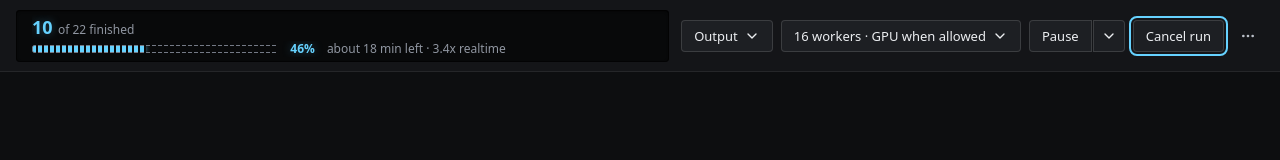
Test: RunHeader confirmations › asks inline before Cancel run, with focus on Keep running and Escape keeping the batch running
The width and height of the screenshot is (1280, 160).
Click the button "Cancel run" at x=1178, y=36, box [1133, 20, 1224, 52]
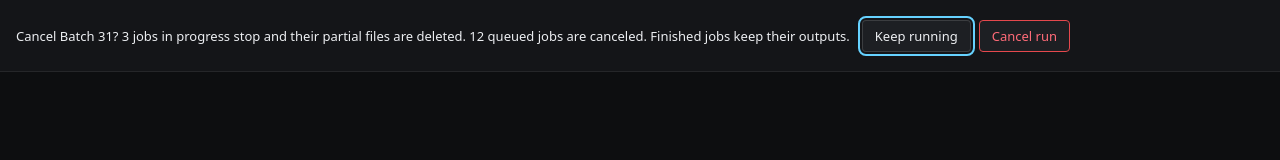
Check: the button "Pause" is gone
Press Escape in the button "Keep running", box [862, 20, 971, 52]
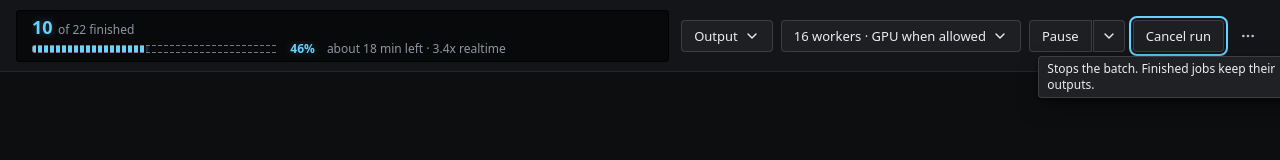
Check: the text "Cancel Batch 31? 3 jobs in progress stop and their partial files are deleted. 12 queued jobs are canceled. Finished jobs" is gone
